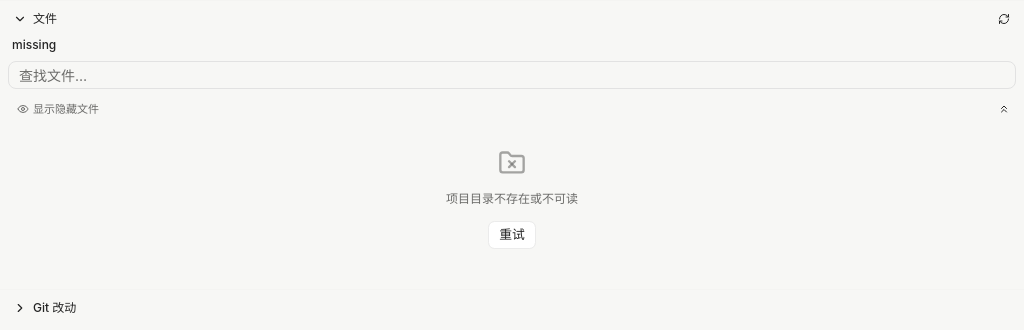
shows a recoverable directory error in the file area
The image size is (1024, 330).
Expected: the message shows "项目目录不存在或不可读", [446,191,578,206]
Click the button "重试". click: (512, 235)
box: [488,221,536,249]
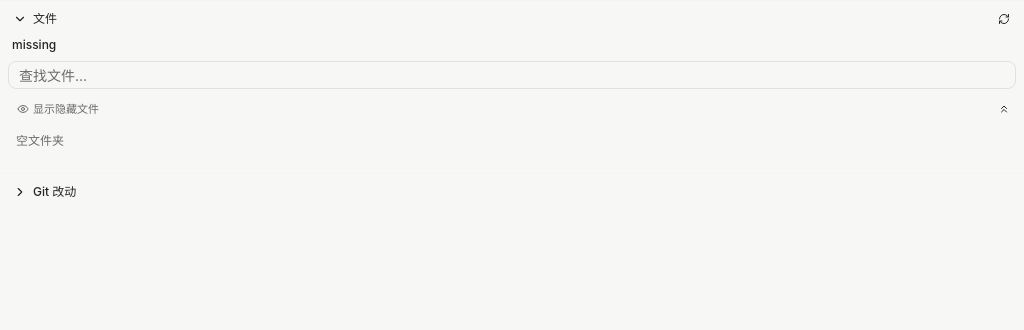
Now the message "项目目录不存在或不可读 重试" is gone
